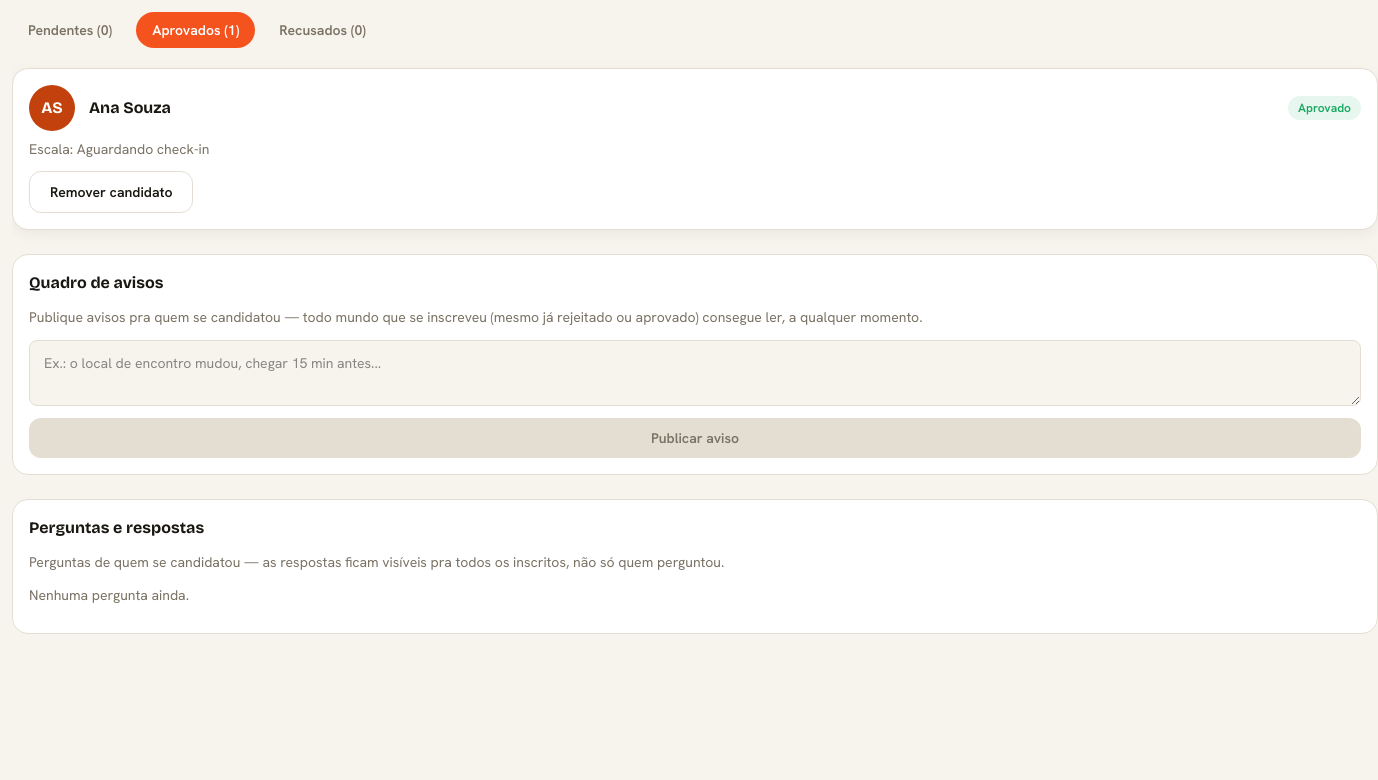
VagaCandidatosPage › mostra a mensagem da API quando remover falha
This screenshot has width=1378, height=780.
Click the button "Remover candidato" at (111, 192), box [29, 171, 194, 213]
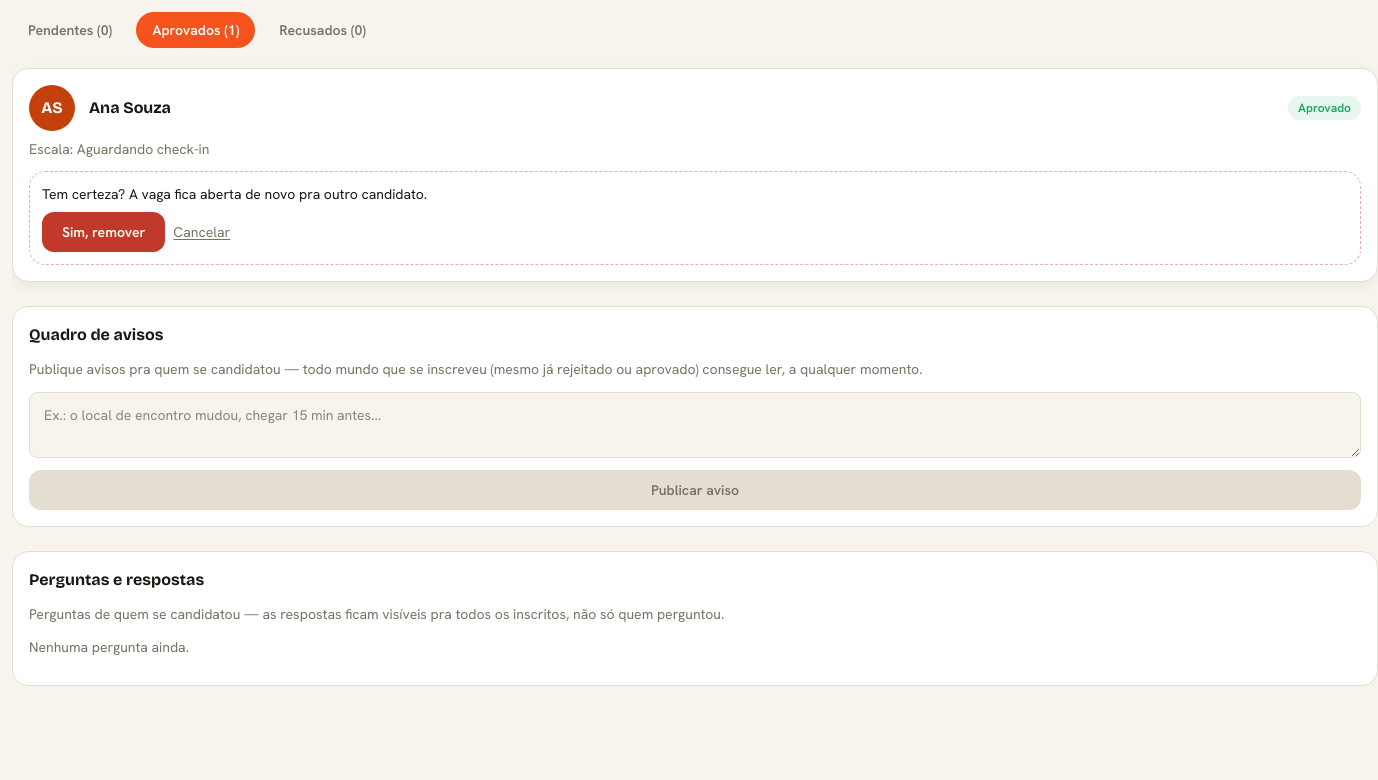
Click the button "Sim, remover" at (104, 232), box [42, 212, 165, 252]
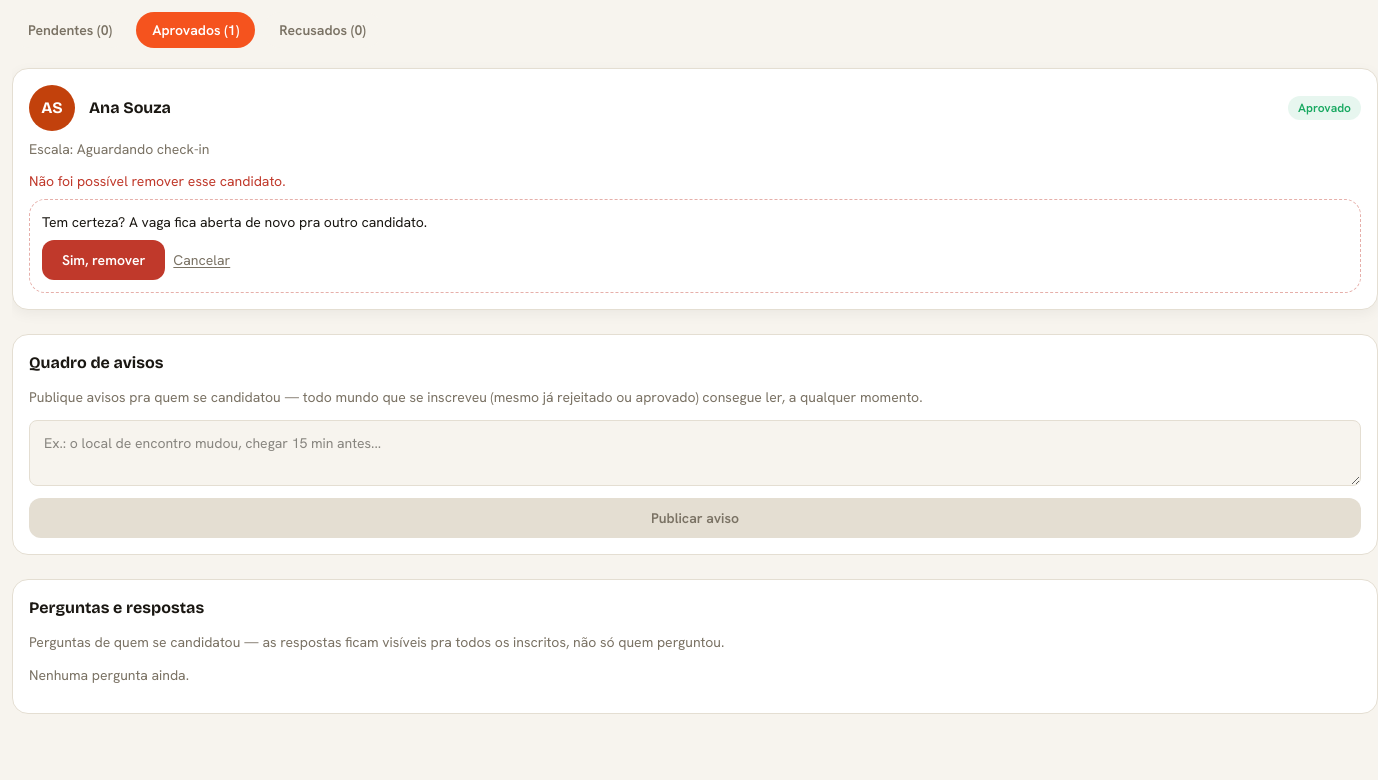
Result: the text "Não foi possível remover esse candidato." is shown at [29, 172, 286, 190]
